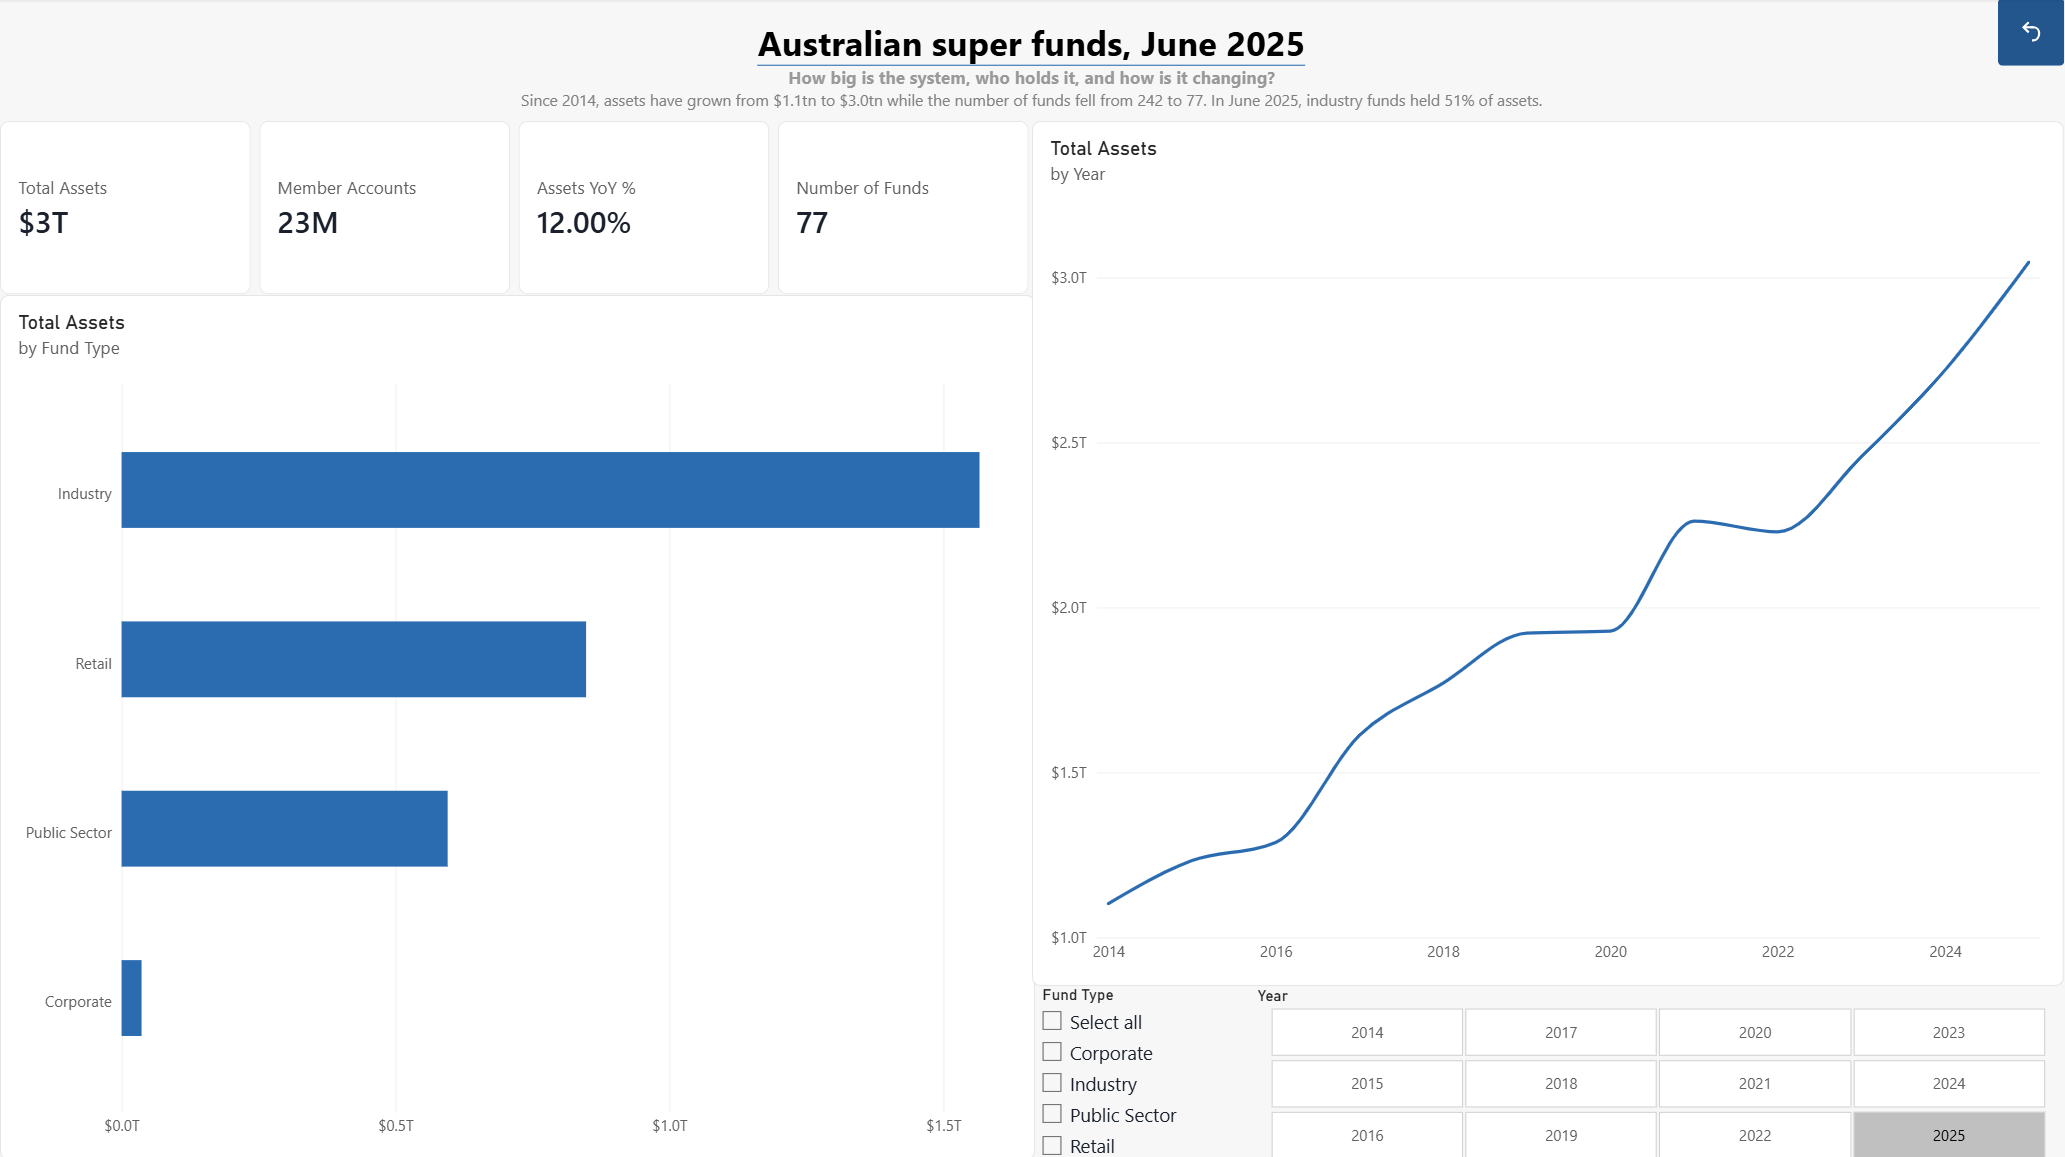

The dashboard page shown, as its layout file describes it:
{"tool":"powerbi","page":{"name":"Overview","canvas":[1920,1080],"ordinal":0},"visuals":[{"type":"clusteredBarChart","fields":{"Category":["DimFundType.Fund Type"],"Y":["_Measures.Total Assets"]},"box":[0,275.8,961.7,803.9],"z":1000},{"type":"lineChart","fields":{"Category":["DimYear.Year"],"Y":["_Measures.Total Assets"]},"box":[959.5,114.8,959.4,803.9],"z":2000},{"type":"slicer","fields":{"Values":["DimFundType.Fund Type"]},"box":[961.4,918.1,199.6,162],"z":3000},{"type":"slicer","fields":{"Values":["DimYear.Year"]},"box":[1161.1,919,758.9,162],"z":4000},{"type":"actionButton","box":[1857,0,61.6,63],"z":5000},{"type":"textbox","box":[0,0,1917.7,115],"z":6000},{"type":"cardVisual","fields":{"Data":["_Measures.Total Assets","_Measures.Member Accounts","_Measures.Assets YoY %","_Measures.Number of Funds"]},"box":[0,114.8,958.6,161],"z":6001}]}

Visuals, with their boxes in screenshot pixels (x1, y1, x2, y2), scaled from the page's 1920x1080 canvas onto the 2065x1157 screenshot:
clusteredBarChart - DimFundType.Fund Type x _Measures.Total Assets: BBox(0, 295, 1034, 1156)
lineChart - DimYear.Year x _Measures.Total Assets: BBox(1032, 123, 2064, 984)
slicer - DimFundType.Fund Type: BBox(1034, 984, 1249, 1156)
slicer - DimYear.Year: BBox(1249, 985, 2064, 1156)
actionButton: BBox(1997, 0, 2063, 67)
textbox: BBox(0, 0, 2063, 123)
cardVisual - _Measures.Total Assets x _Measures.Member Accounts: BBox(0, 123, 1031, 295)
